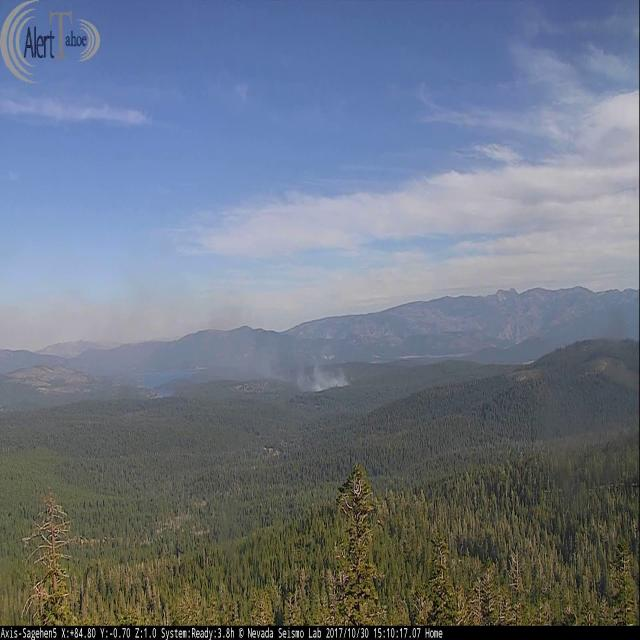smoke: (82, 291, 358, 404)
